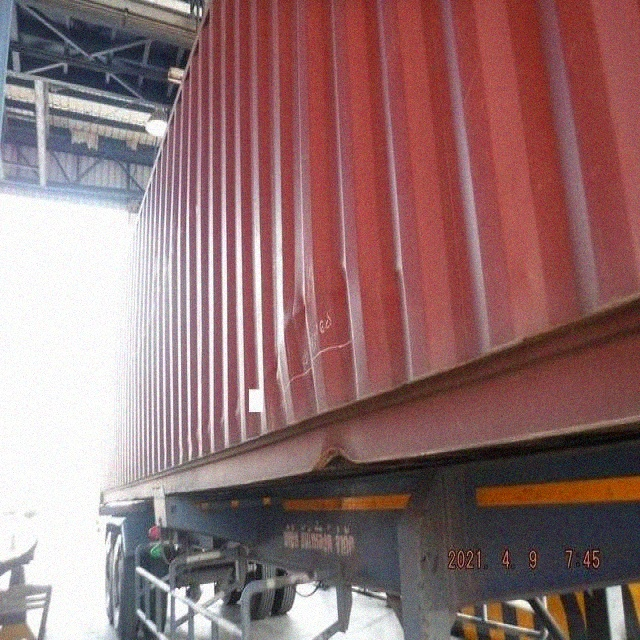Dent: (260, 214, 372, 384), (355, 242, 420, 317)
